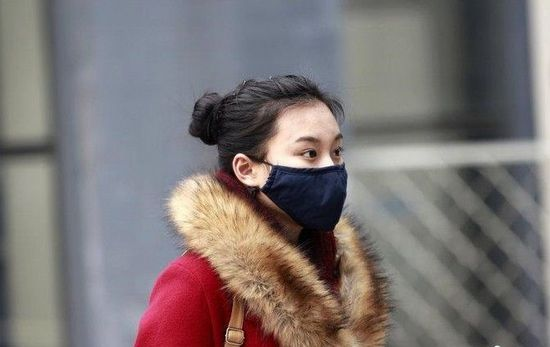face_mask: (264, 107, 348, 228)
